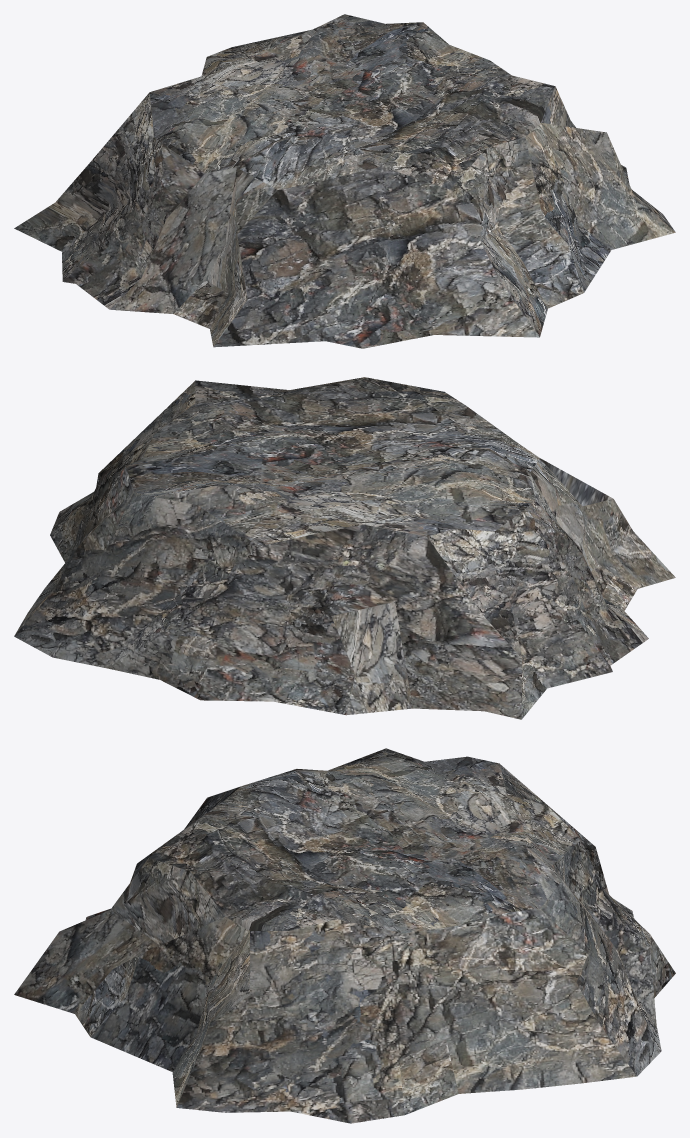
The model's file is rock.fbx.
The picture shows the model from 3 angles, top to bottom: view 1: azimuth 30°, elevation 25°; view 2: azimuth 150°, elevation 25°; view 3: azimuth 270°, elevation 25°; orthographic projection. The views are drawn at different scales.
Parts seen in each view (by area): view 1: rock_LOD0; view 2: rock_LOD0; view 3: rock_LOD0.
Boxes of the visible parts, <box> form: rock_LOD0: <box>14,14,675,348</box>; rock_LOD0: <box>14,377,675,719</box>; rock_LOD0: <box>14,748,675,1123</box>.
Size of what is drawn, in the model's own units: 1089 by 268 by 1047.
